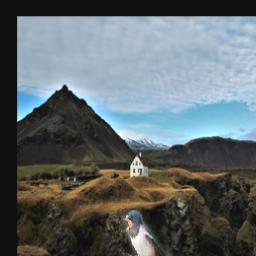Swallow: (122, 210, 175, 256)
